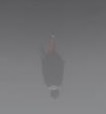person: (40, 32, 67, 99)
